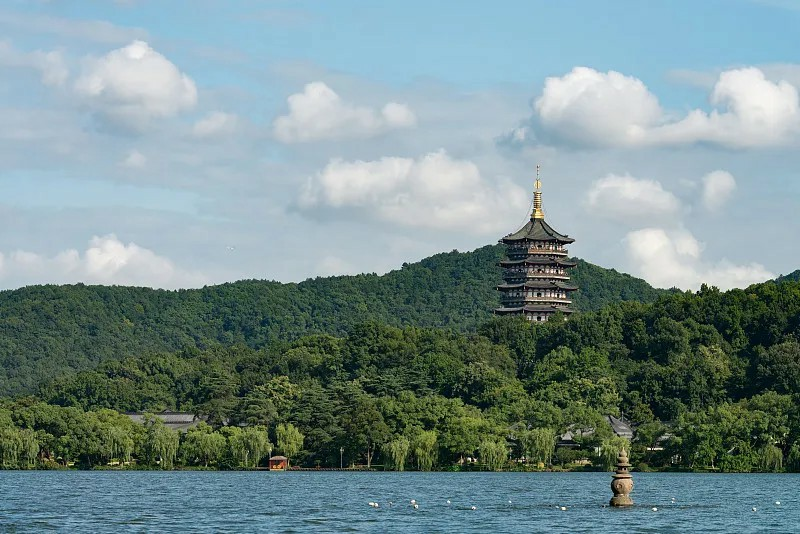Leifeng: (489, 165, 579, 329)
